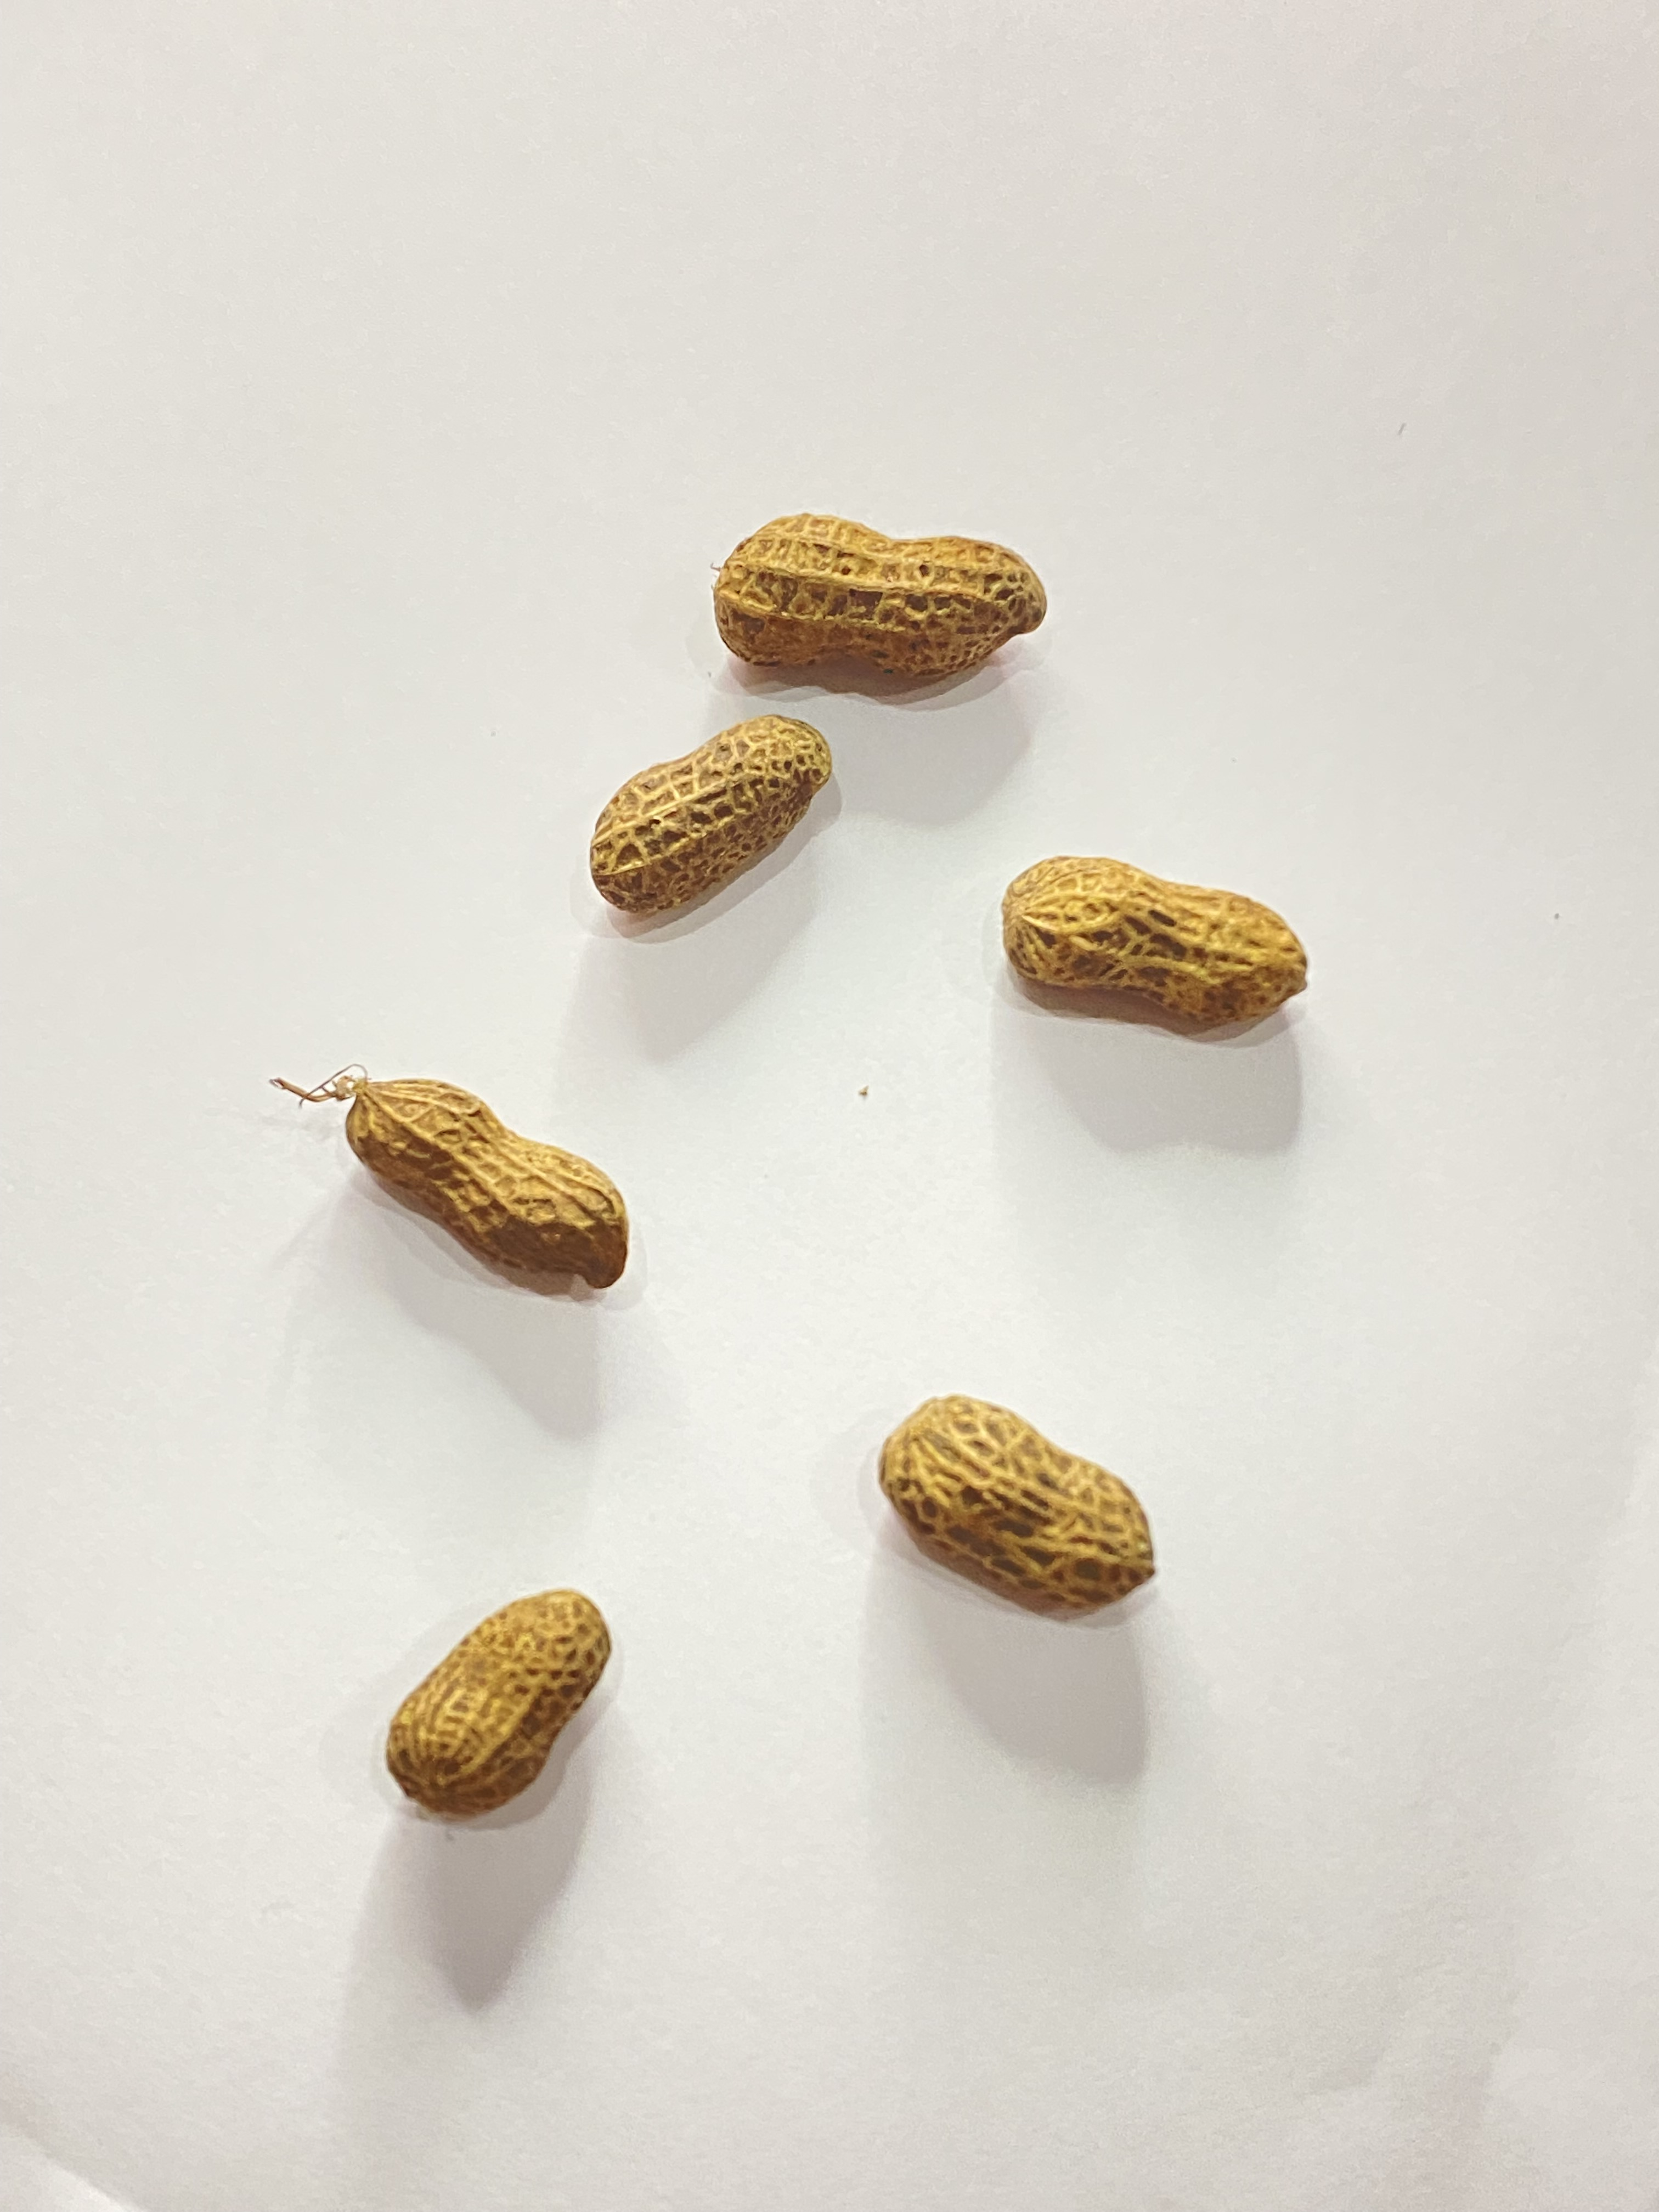kacang2: (343, 1064, 636, 1301), (882, 1390, 1157, 1616), (1002, 841, 1317, 1038), (385, 1587, 647, 1822), (711, 512, 1049, 681), (591, 714, 835, 921)
